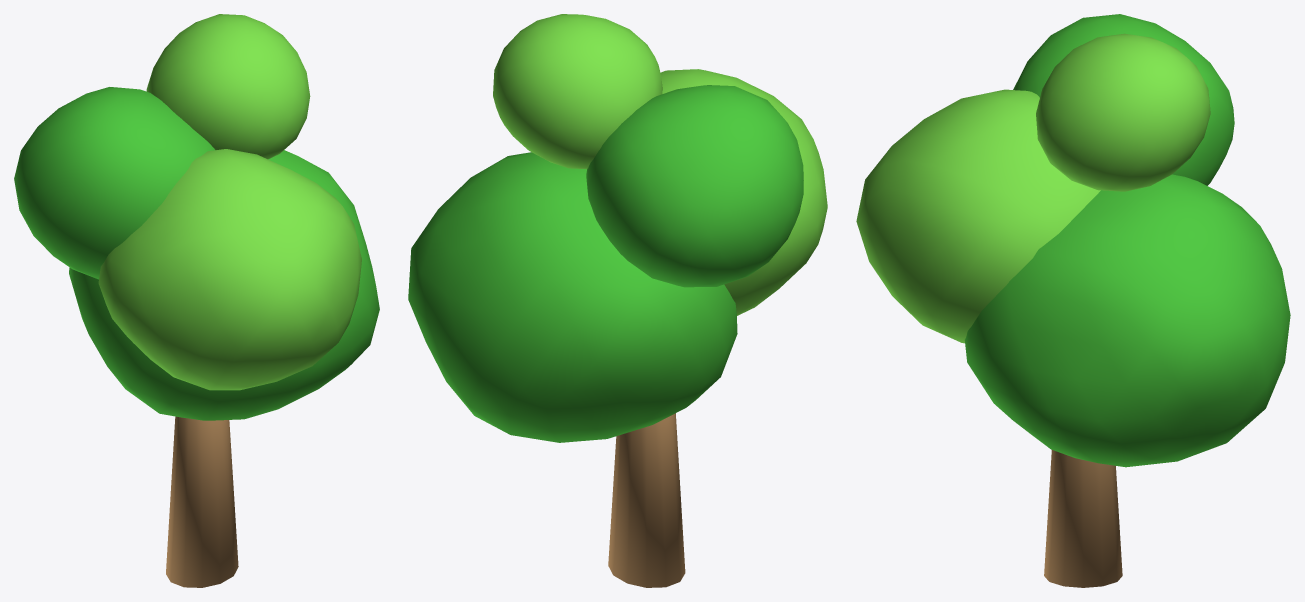
The model's file is tree_a.glb.
3 views of the same model, side by side, from view 1: azimuth 30°, elevation 25°; view 2: azimuth 150°, elevation 25°; view 3: azimuth 270°, elevation 25° (orthographic). The views are drawn at different scales.
Parts seen in each view (by area): view 1: Tree; view 2: Tree; view 3: Tree.
Boxes of the visible parts, left/top/right/bottom form: Tree: left=14, top=14, right=379, bottom=587; Tree: left=408, top=14, right=827, bottom=587; Tree: left=856, top=14, right=1290, bottom=587.
Size of the model in its own units: 4.72 by 7.12 by 4.97.
